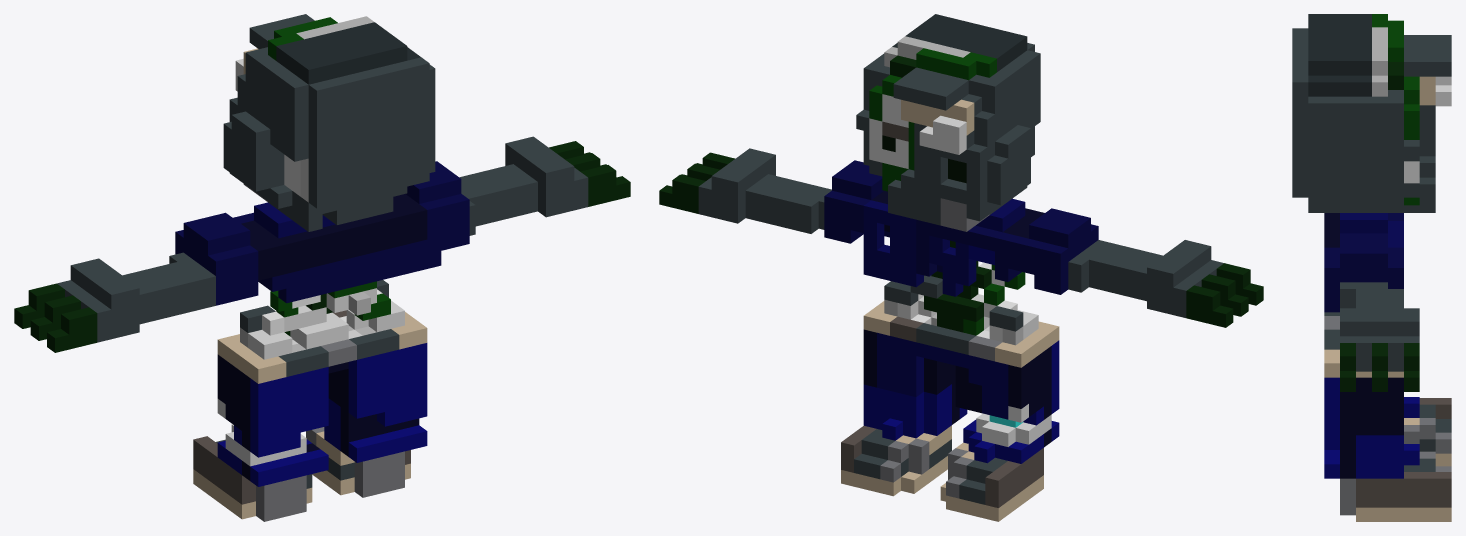
Rendered from NormalShoot.obj.
3 renders of one model, left to right at view 1: azimuth 30°, elevation 25°; view 2: azimuth 150°, elevation 25°; view 3: azimuth 270°, elevation 25°, orthographic. The views are drawn at different scales.
Size of the model in its own units: 4.2 by 3.1 by 1.
1 material, 1 textured.
